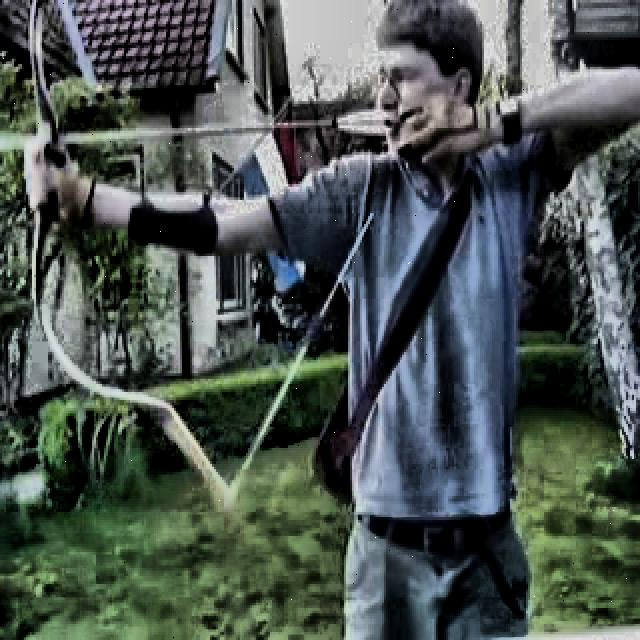P: (25, 0, 536, 640)
